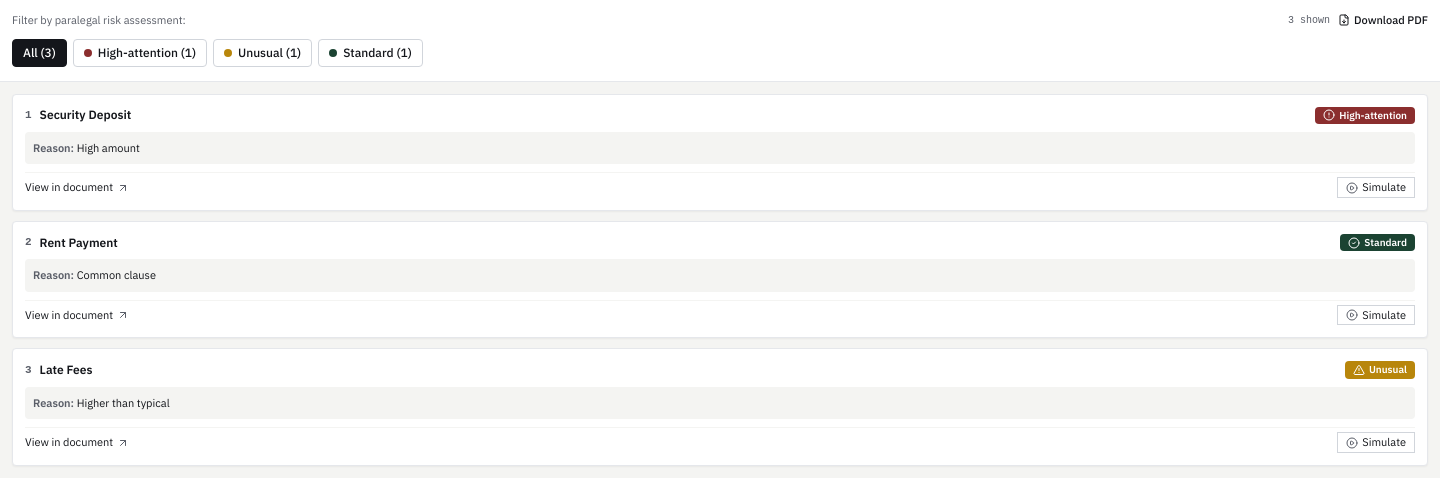
it: Accordion Accessibility Tests › RiskTagsPanel Filtering (Accordion-like behavior) › filters clauses when clicking filter buttons
The width and height of the screenshot is (1440, 495).
expect the text "Security Deposit" is shown: met, box [40, 107, 131, 123]
expect the text "Rent Payment" is shown: met, box [40, 235, 118, 251]
# Click high-attention filter
Click the button "High-attention (1)" at coordinates (140, 52), box [73, 38, 207, 66]
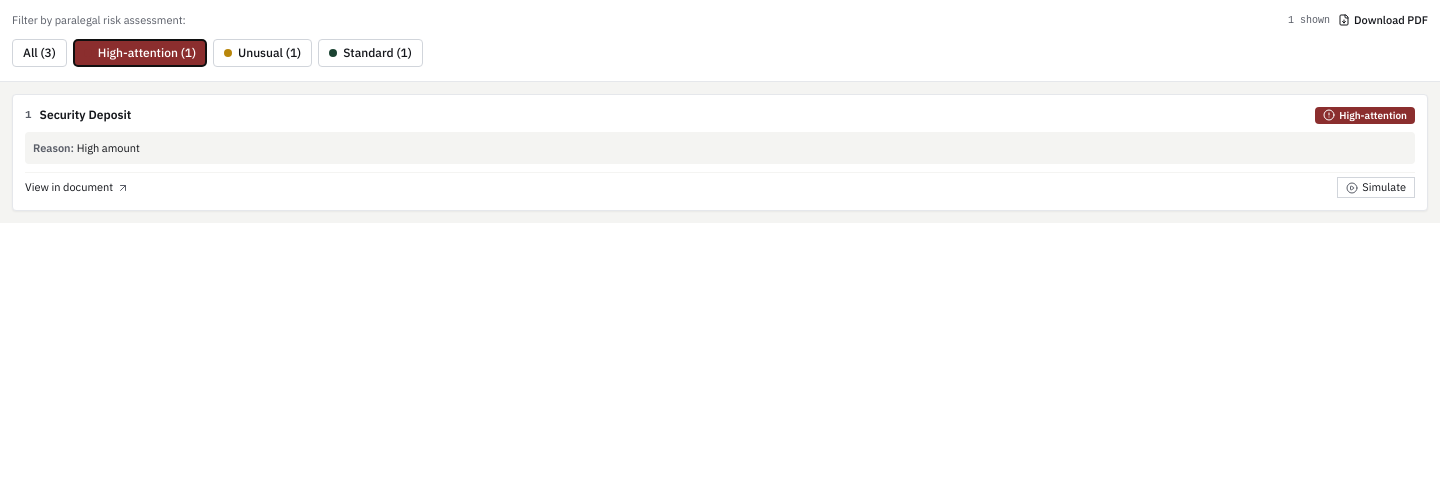
expect the text "Security Deposit" is shown: met, box [40, 107, 131, 123]
expect the text "Rent Payment" is gone: met
expect the text "Late Fees" is gone: met
# Click standard filter
Click the button "Standard (1)" at coordinates (370, 52), box [318, 38, 423, 66]
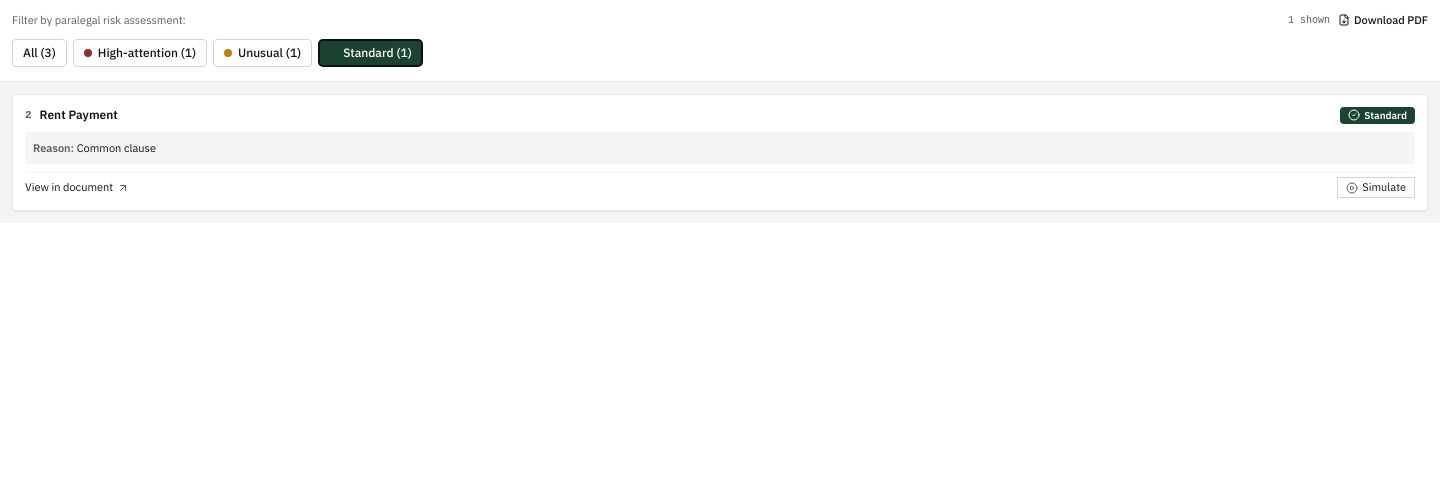
expect the text "Late Fees" is not shown: met
expect the text "Security Deposit" is gone: met
expect the text "Rent Payment" is shown: met, box [40, 107, 118, 123]
# Click all filter
Click the button "All (3)" at coordinates (39, 52), box [12, 38, 67, 66]
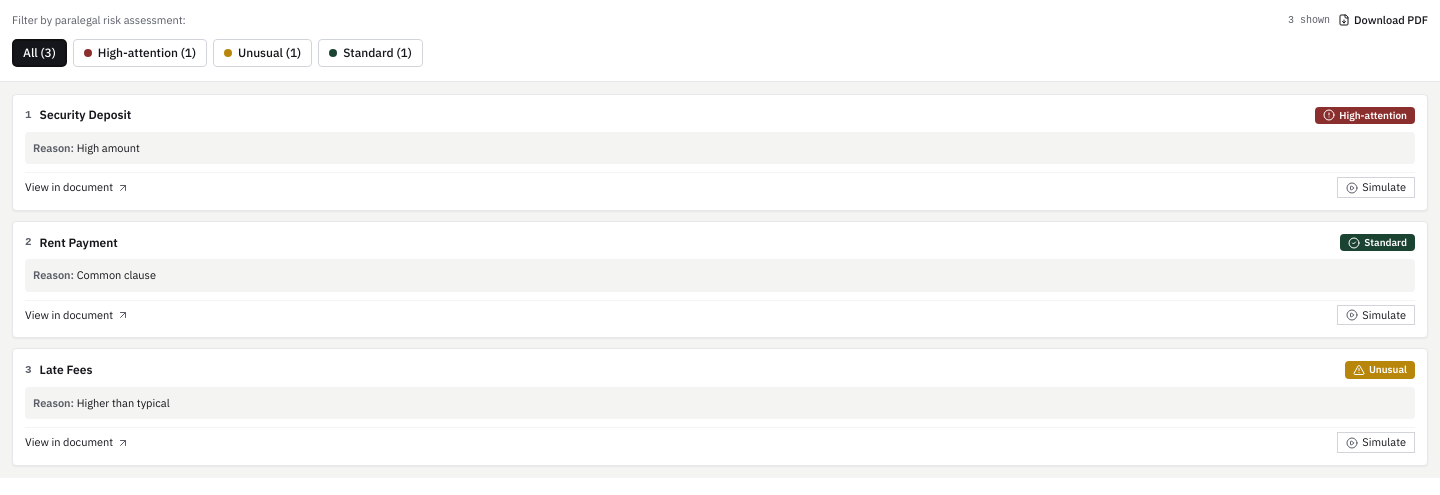
expect the text "Rent Payment" is shown: met, box [40, 235, 118, 251]
expect the text "Security Deposit" is shown: met, box [40, 107, 131, 123]
expect the text "Late Fees" is shown: met, box [40, 362, 92, 378]
